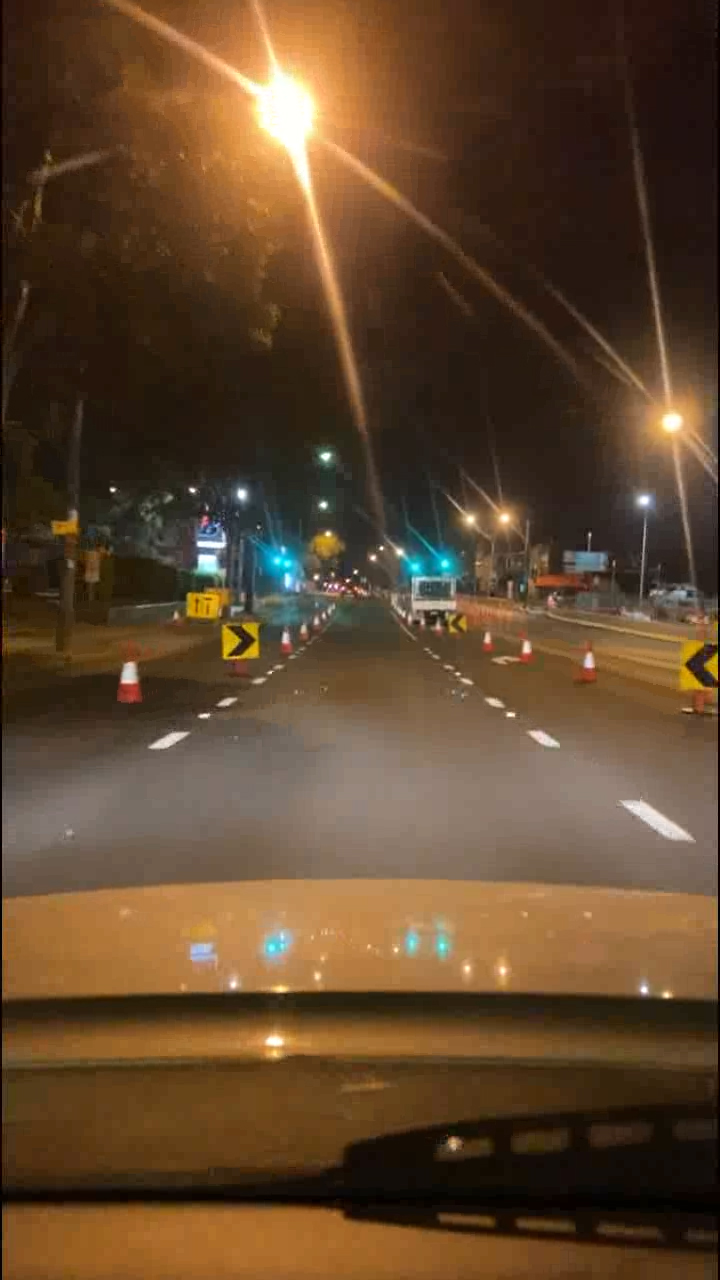road cone: (112, 638, 147, 715), (572, 627, 607, 704), (507, 616, 542, 693), (472, 606, 507, 683), (272, 610, 304, 663), (312, 598, 344, 651)
road works sign board: (681, 642, 720, 692), (183, 592, 222, 621), (225, 629, 258, 663)
